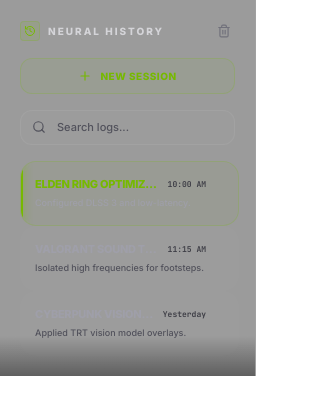
Test case: NeuralHistory Component › filters history list by search query input
// Type 'sound' to filter
Step 1. Type "sound" into the field with placeholder "Search logs..." → [128, 127], box [20,110,235,144]
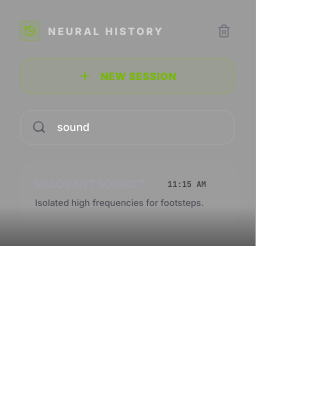
Expected: the heading "Valorant Sound Tuning" is shown, [35,176,168,192]
Now the button "Elden Ring Optimization" is gone
Now the button "Cyberpunk Vision Pass" is gone
